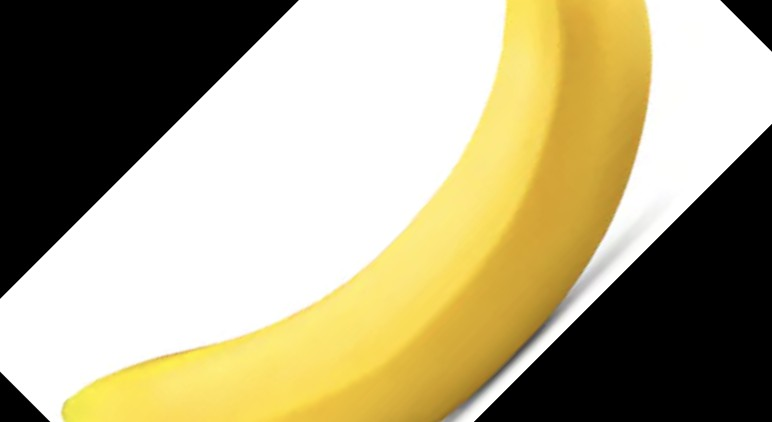fresh_banana: (60, 1, 652, 422)
